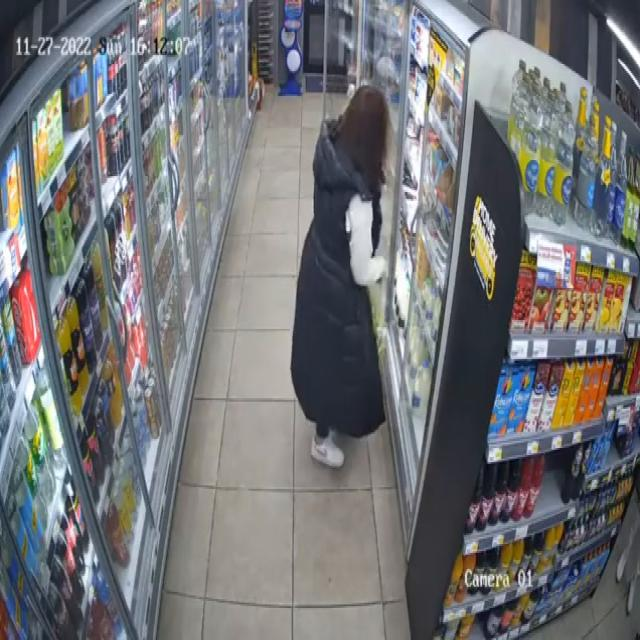person: (292, 87, 390, 466)
